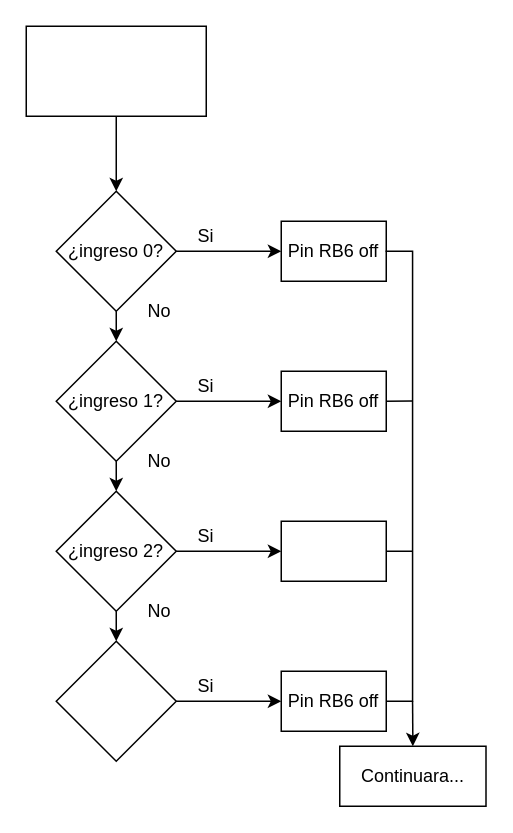
The diagram is 513 pixels wide and 833 high, and some of its shapes have lost their labels. Each missing label, with the centre of its shape:
Operaciones previas: (x=115, y=70)
Pin RB6 on: (x=333, y=550)
¿default?: (x=115, y=700)
